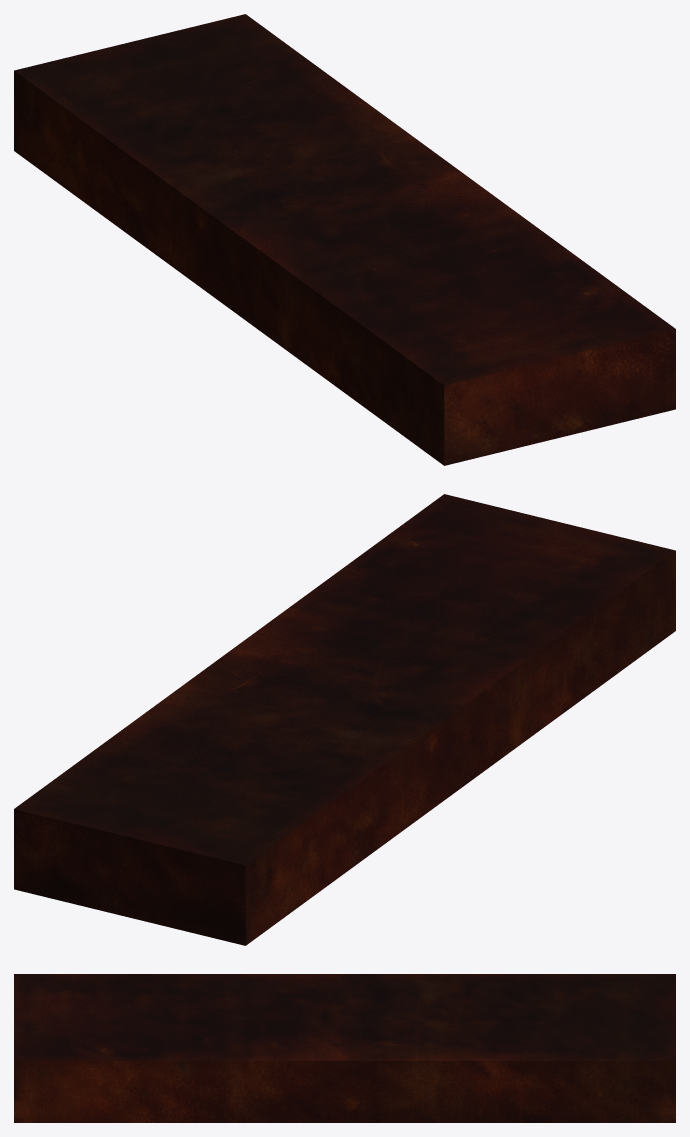
3 views of the same model, one above another, from view 1: azimuth 30°, elevation 25°; view 2: azimuth 150°, elevation 25°; view 3: azimuth 270°, elevation 25° (orthographic). The views are drawn at different scales.
Parts seen in each view (by area): view 1: Cube; view 2: Cube; view 3: Cube.
Boxes of the visible parts, x1,y1,x2,y2 form: Cube: (14,14,675,465); Cube: (14,494,675,945); Cube: (14,974,675,1122).
Bounding box in the file's own units: 2 × 0.6633 × 6.44.
Materials: 1 (1 with a texture image).
